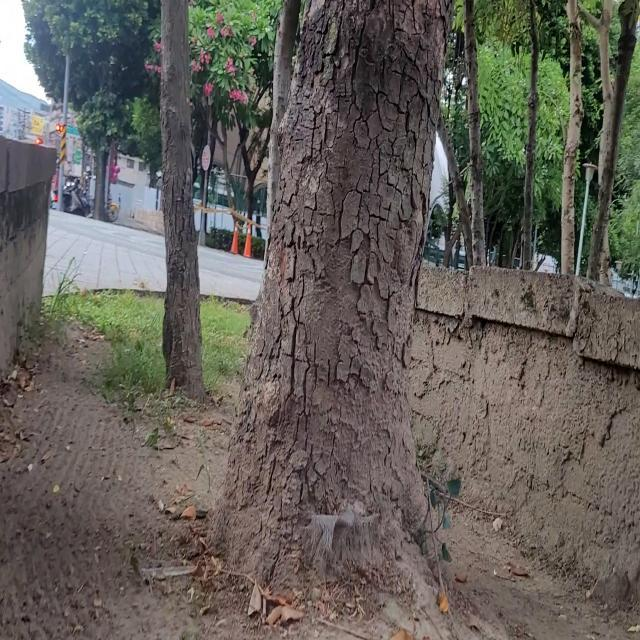Tree: (227, 1, 454, 610), (160, 1, 199, 422), (560, 1, 585, 270), (524, 7, 543, 270), (469, 1, 486, 267)
